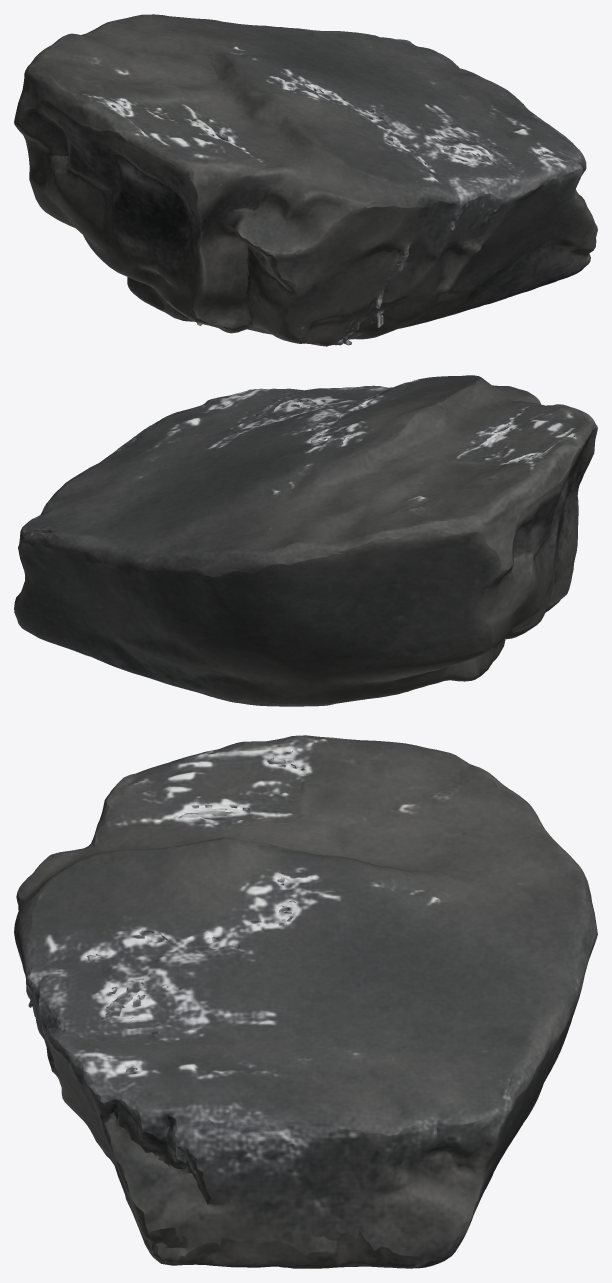
3 renders of one model, top to bottom at view 1: azimuth 30°, elevation 25°; view 2: azimuth 150°, elevation 25°; view 3: azimuth 270°, elevation 25°, orthographic. The views are drawn at different scales.
Parts seen in each view (by area): view 1: world; view 2: world; view 3: world.
Boxes of the visible parts, x1,y1,x2,y2 form: world: (14, 14, 597, 346); world: (14, 375, 597, 706); world: (14, 735, 597, 1268).
Bounding box in the file's own units: 0.32 × 0.1542 × 0.2918.
1 material, 1 textured.
